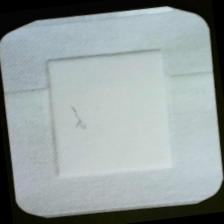Dressing: (1, 1, 224, 224)
F_Body: (64, 99, 96, 137)
